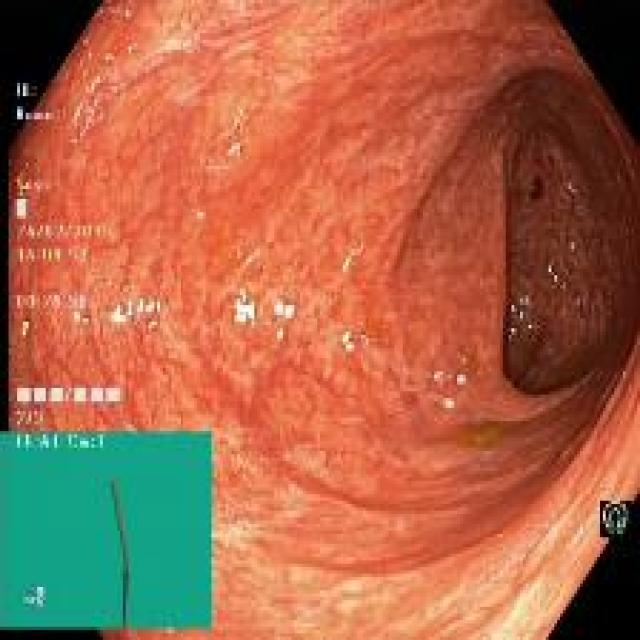ulcerative-colitis-grade-0-1: (12, 61, 488, 549)
